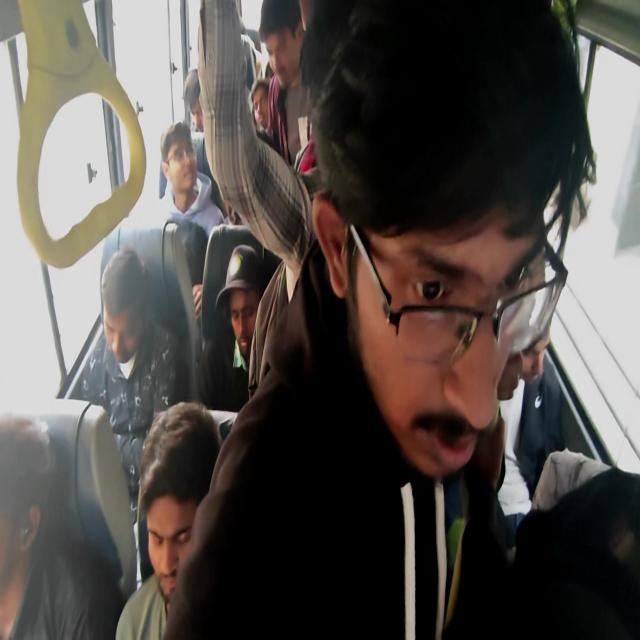person: (352, 194, 550, 482), (162, 122, 226, 304), (138, 401, 221, 524), (258, 2, 316, 175), (0, 415, 57, 535), (309, 3, 369, 108), (100, 246, 148, 318), (160, 121, 196, 186), (252, 75, 275, 138), (186, 69, 216, 110), (298, 0, 312, 32), (159, 158, 169, 200), (264, 60, 274, 80), (238, 14, 245, 35)
